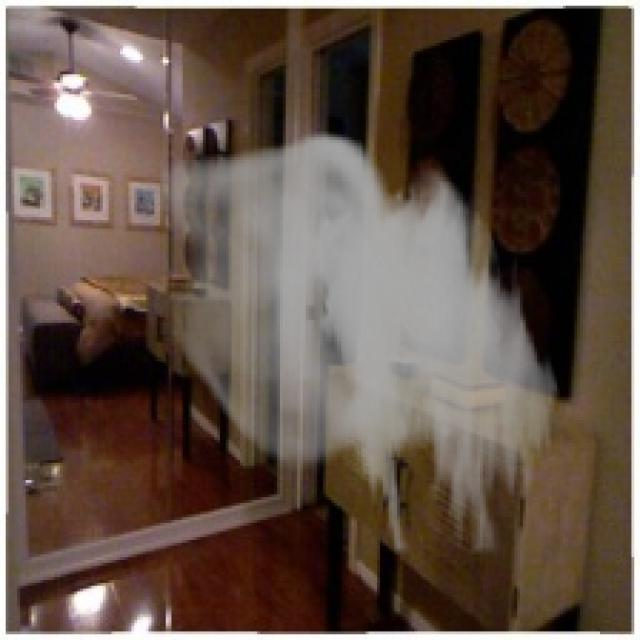Smoke: (157, 132, 563, 554)
